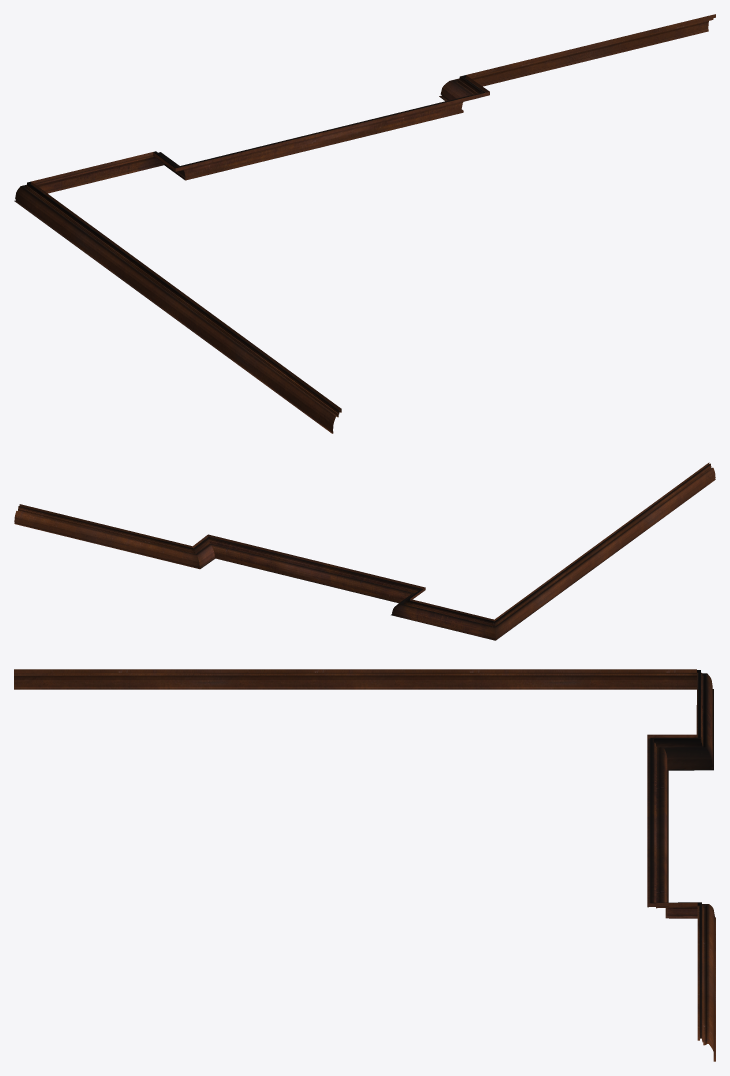
File: Wallpaper.001.obj
The picture shows the model from 3 angles, top to bottom: view 1: azimuth 30°, elevation 25°; view 2: azimuth 150°, elevation 25°; view 3: azimuth 270°, elevation 25°; orthographic projection. The views are drawn at different scales.
Parts seen in each view (by area): view 1: Wallpaper.001; view 2: Wallpaper.001; view 3: Wallpaper.001.
Boxes of the visible parts, bbox=[...] form: Wallpaper.001: bbox=[14, 14, 715, 433]; Wallpaper.001: bbox=[14, 462, 715, 640]; Wallpaper.001: bbox=[14, 669, 715, 1061].
Size of the model in its own units: 6.33 by 0.1976 by 5.04.
